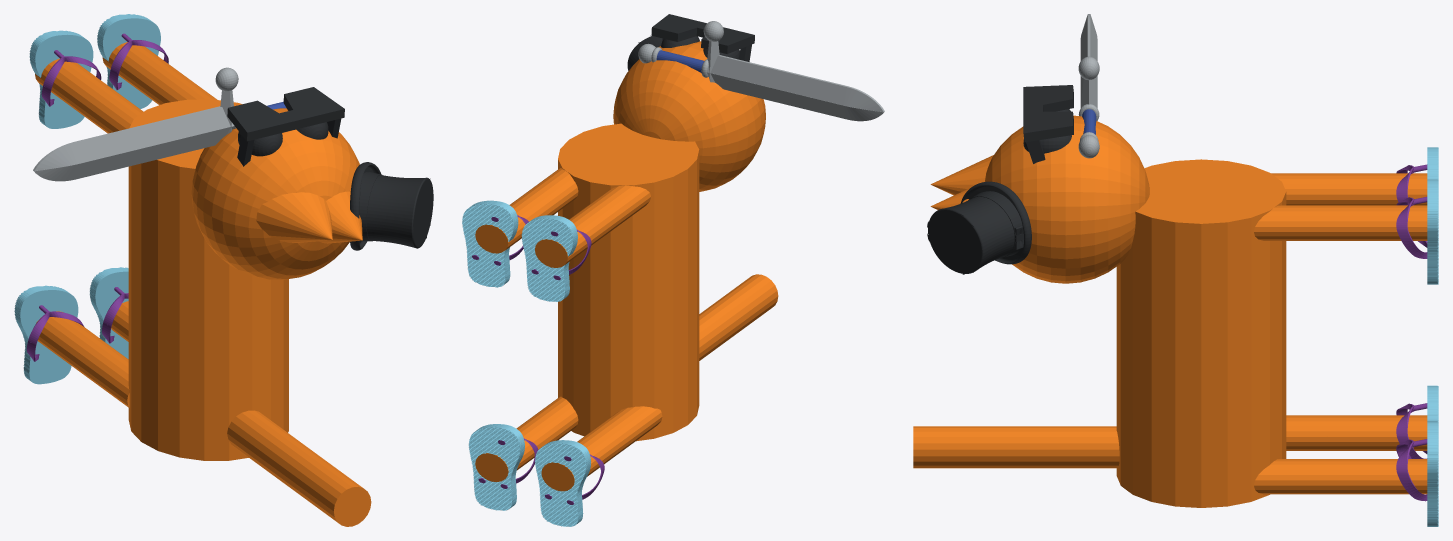
The model's file is tinker.obj.
3 views of the same model, side by side, from view 1: azimuth 30°, elevation 25°; view 2: azimuth 150°, elevation 25°; view 3: azimuth 270°, elevation 25° (orthographic). The views are drawn at different scales.
Parts seen in each view (by area): view 1: group_0_16089887, group_0_2829873, group_0_8768998, group_0_10988977, group_0_8273816; view 2: group_0_16089887, group_0_8768998, group_0_10988977, group_0_2829873, group_0_8273816; view 3: group_0_16089887, group_0_2829873, group_0_8768998, group_0_8273816, group_0_10988977.
Boxes of the visible parts, x1,y1,x2,y2 form: group_0_16089887: (35, 42, 371, 526); group_0_2829873: (227, 87, 433, 250); group_0_8768998: (14, 14, 160, 384); group_0_10988977: (33, 67, 238, 181); group_0_8273816: (26, 33, 168, 361); group_0_16089887: (475, 41, 778, 491); group_0_8768998: (462, 200, 590, 526); group_0_10988977: (638, 21, 884, 121); group_0_2829873: (627, 14, 754, 70); group_0_8273816: (472, 215, 604, 504); group_0_16089887: (913, 115, 1427, 507); group_0_2829873: (927, 85, 1073, 274); group_0_8768998: (1427, 147, 1438, 526); group_0_8273816: (1396, 164, 1427, 501); group_0_10988977: (1078, 14, 1099, 158).
Bounding box in the file's own units: 46 × 56 × 62.
